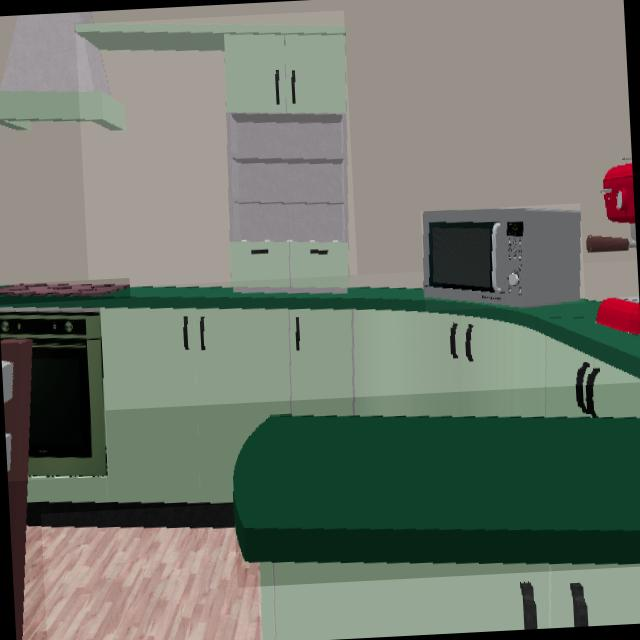cabinet: (25, 309, 640, 505), (75, 24, 348, 292), (260, 563, 640, 640)
chair: (1, 338, 33, 640)
countertop: (233, 416, 640, 565), (0, 287, 640, 380)
microwave: (422, 212, 581, 305)
oven: (0, 313, 107, 477)
stove: (0, 280, 130, 299)
